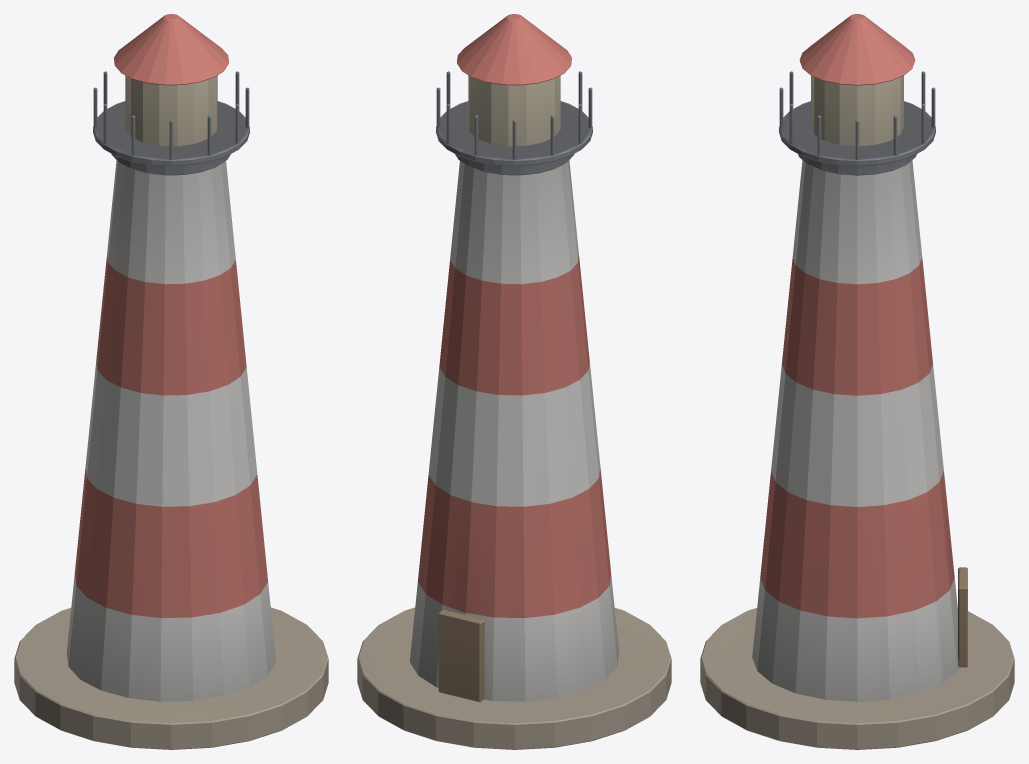
File: lighthouse_choseung.glb
The picture shows the model from 3 angles, left to right: view 1: azimuth 30°, elevation 25°; view 2: azimuth 150°, elevation 25°; view 3: azimuth 270°, elevation 25°; orthographic projection.
Bounding box in the file's own units: 6.4 × 15 × 6.4.
